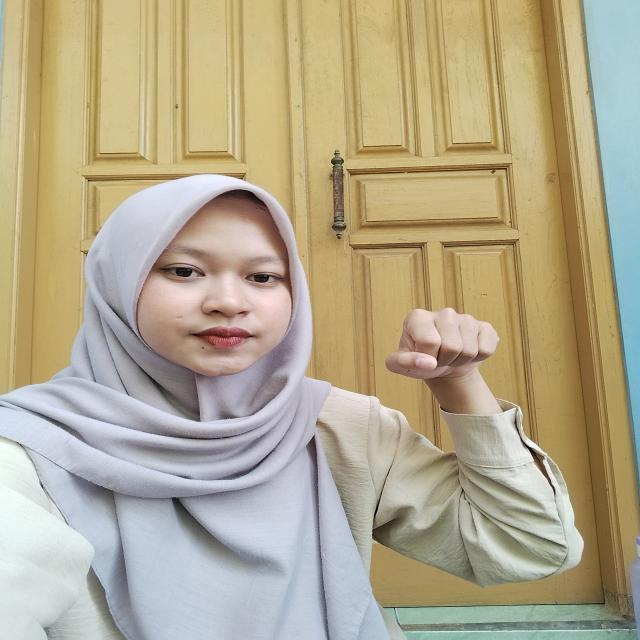baik: (371, 298, 544, 468)
